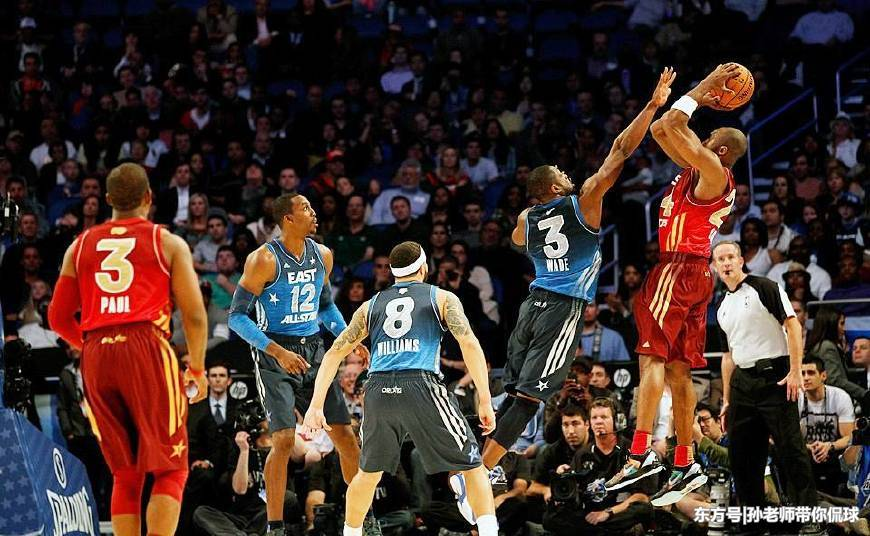ball: (709, 62, 755, 108)
